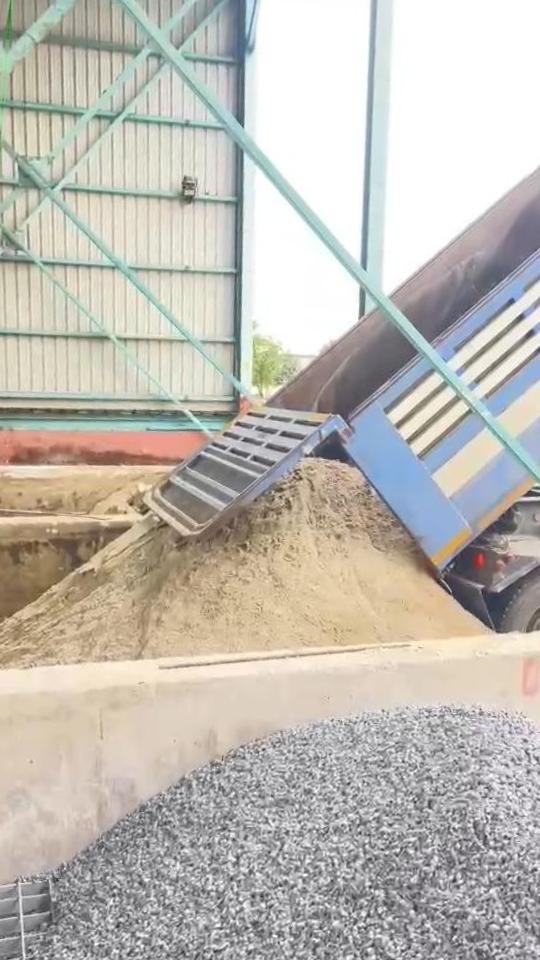gravel: (6, 707, 540, 960)
sand: (0, 460, 484, 669), (91, 480, 148, 513)
